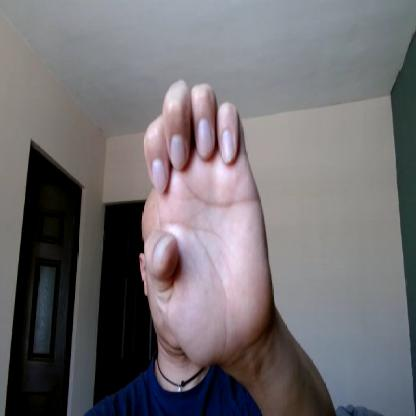E: (143, 79, 272, 366)
